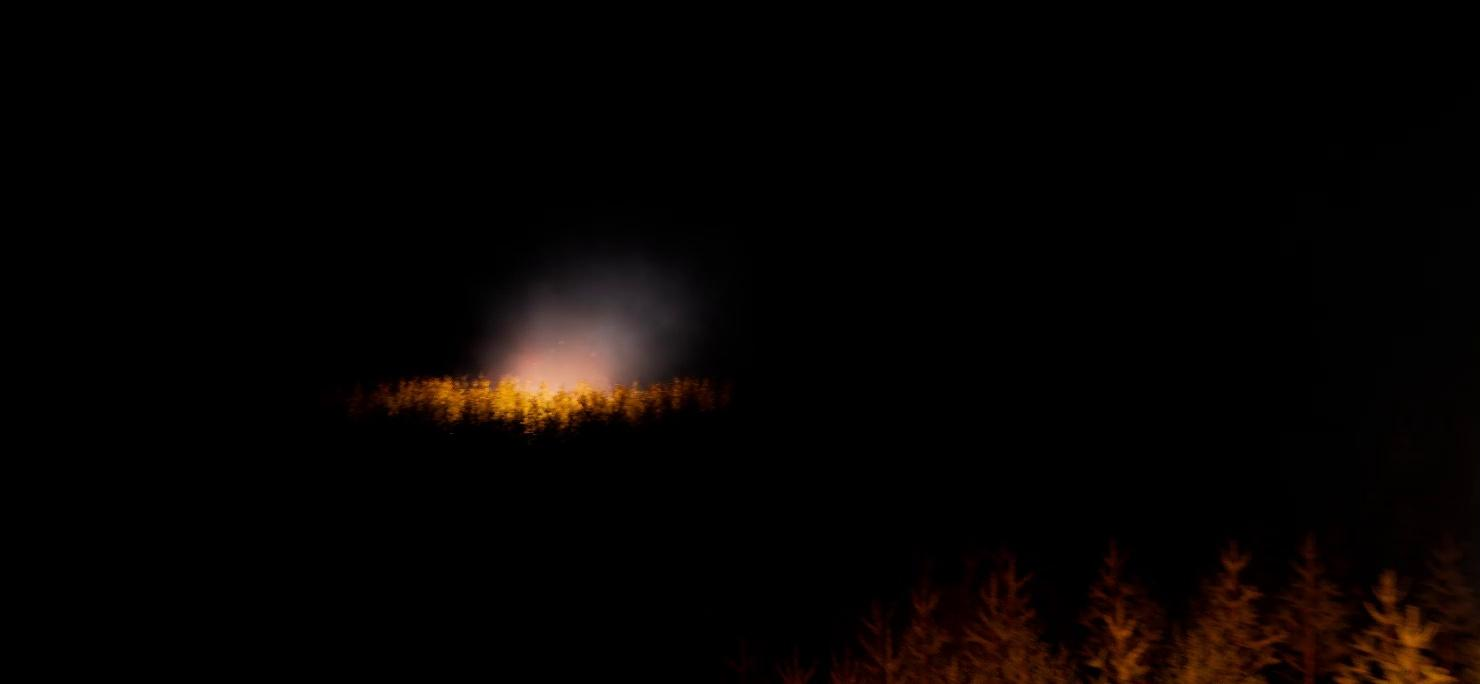smoke: (478, 260, 694, 393)
